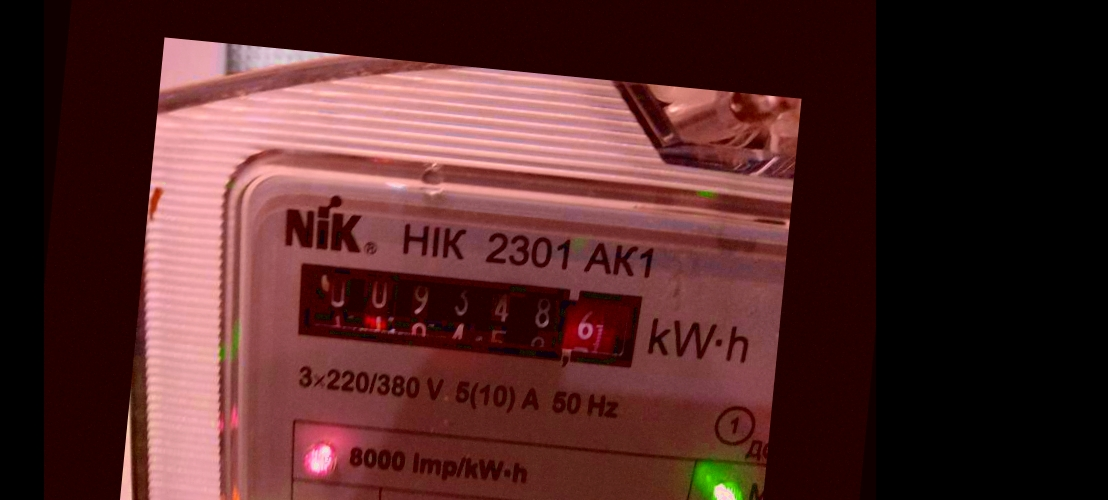0: (367, 274, 392, 312), (327, 272, 350, 309)
3: (449, 283, 474, 317)
4: (489, 287, 513, 325)
6: (575, 305, 600, 341)
8: (532, 293, 555, 328)
9: (410, 279, 432, 315)
screen: (271, 245, 664, 383)
